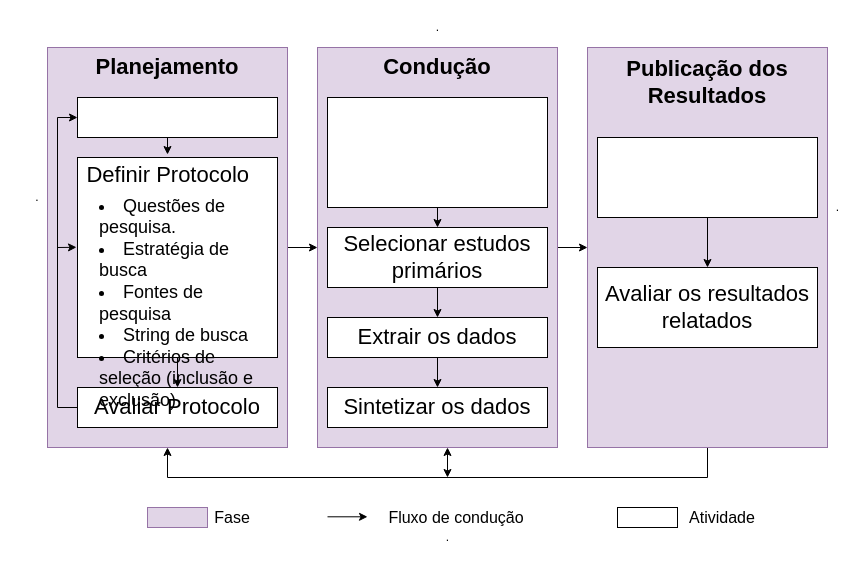
Some shapes in this 864 by 564 pixel diagram are drawn without their labels. Here are the shapes that lost their labels. From the top down, the centre of each, then its label:
[177,117]: Definir Objetivo
[437,152]: Identificar estudos primários (utilização da estratégia de busca)
[707,177]: Descrever e divulgar os resultados
